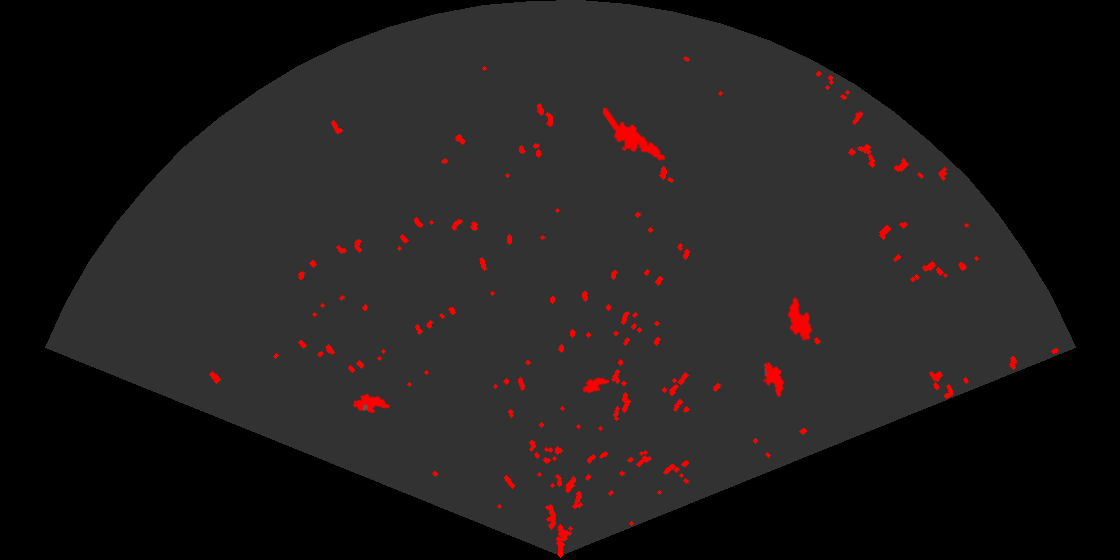AUV: (786, 295, 814, 343), (351, 392, 392, 415), (763, 360, 786, 399), (581, 375, 611, 395)
frogman: (603, 108, 667, 163)
